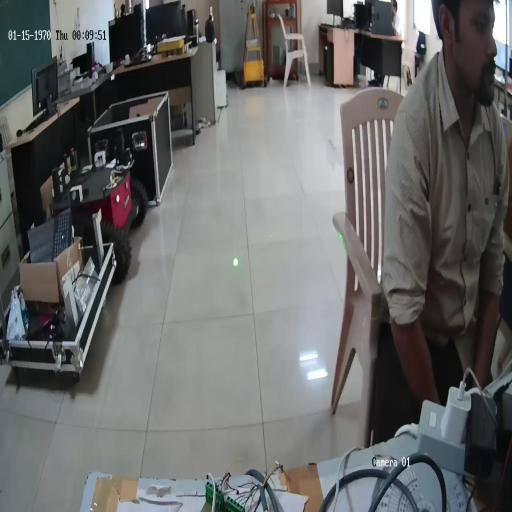laser: (233, 257, 238, 268)
